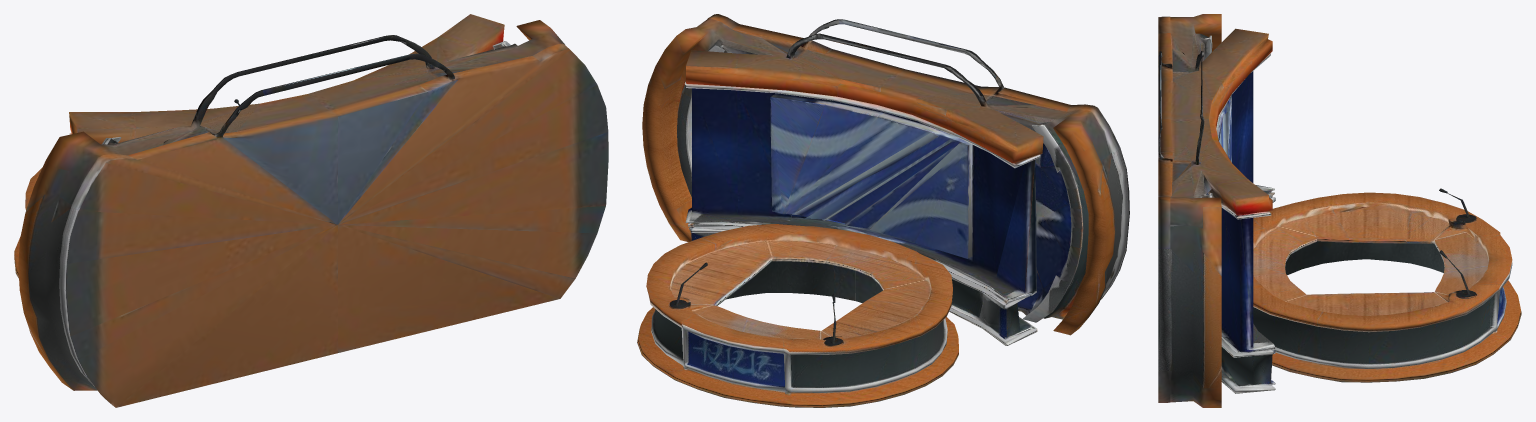
File: office-news-desk.glb
3 renders of one model, left to right at view 1: azimuth 30°, elevation 25°; view 2: azimuth 150°, elevation 25°; view 3: azimuth 270°, elevation 25°, orthographic. The views are drawn at different scales.
Parts seen in each view (by area): view 1: news-desk; view 2: news-desk; view 3: news-desk.
Part boxes in pixels (<box>): news-desk: <box>14,14,608,407</box>; news-desk: <box>637,14,1129,407</box>; news-desk: <box>1158,14,1521,407</box>.
Bounding box in the file's own units: 2.6 × 1.24 × 1.77.
Materials: 1 (1 with a texture image).
